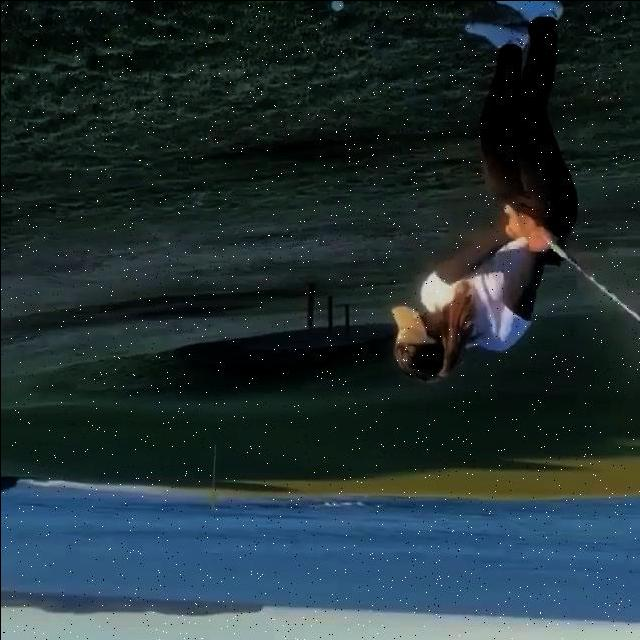ClubHandle: (503, 203, 640, 321)
GolfBall: (331, 0, 344, 10)
